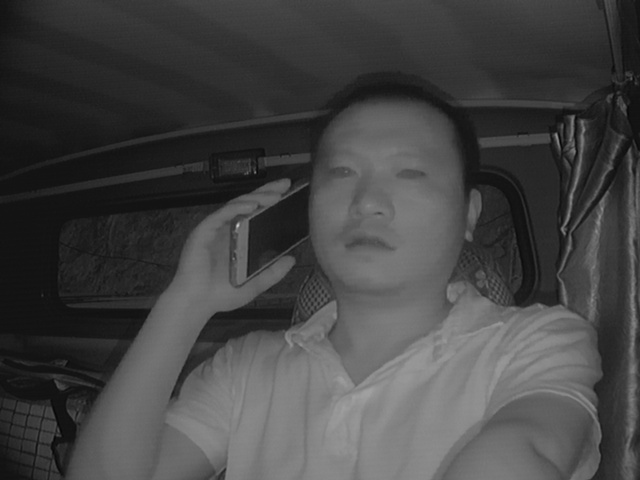hand: (176, 184, 297, 307)
